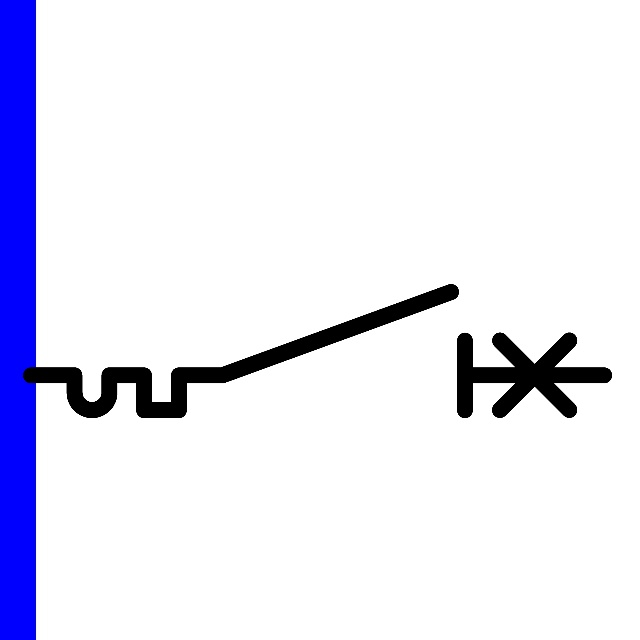interruptor_termomagnetico: (16, 277, 619, 425)
